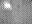person: (4, 2, 11, 7)
